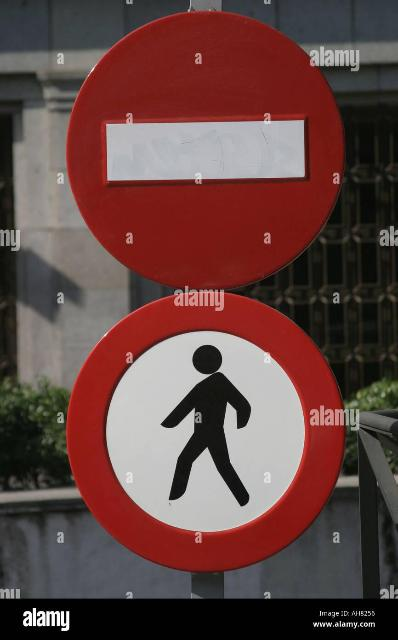B2: (66, 10, 347, 290)
